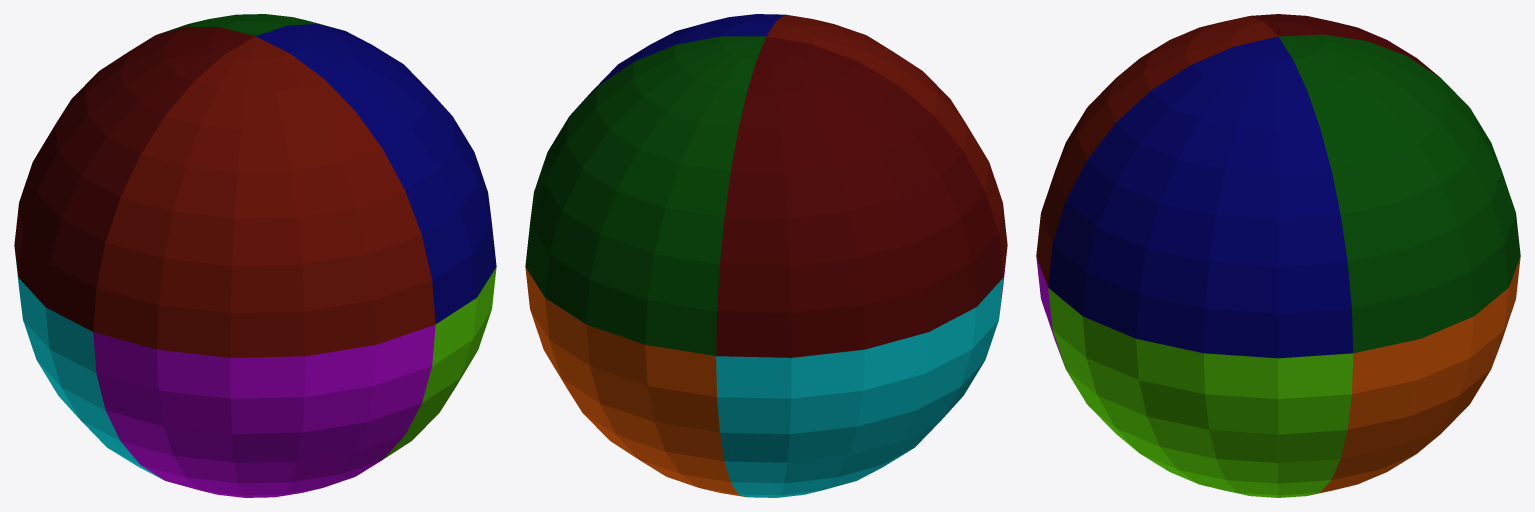
Rendered from ball.obj.
3 renders of one model, left to right at view 1: azimuth 30°, elevation 25°; view 2: azimuth 150°, elevation 25°; view 3: azimuth 270°, elevation 25°, orthographic.
Visible parts, largest first — view 1: Sphere.002; view 2: Sphere.002; view 3: Sphere.002.
Part boxes in pixels (x1,y1,x2,y2): Sphere.002: (14, 14, 496, 497); Sphere.002: (525, 14, 1007, 497); Sphere.002: (1036, 14, 1520, 497).
Size of the model in its own units: 1.5 by 1.5 by 1.5.
